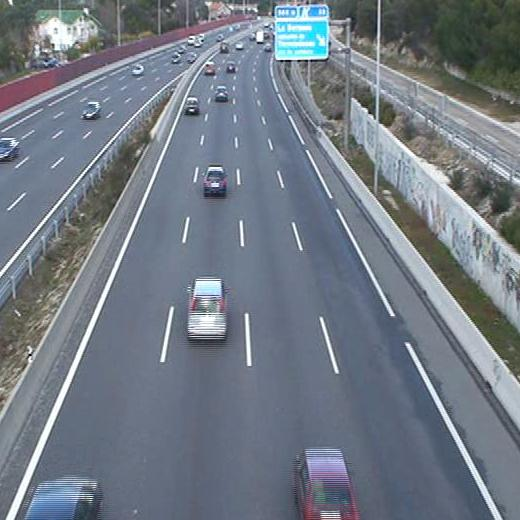car: (296, 449, 356, 520), (187, 277, 226, 337), (203, 165, 226, 194), (183, 96, 200, 116), (215, 84, 228, 100), (225, 60, 237, 71)
